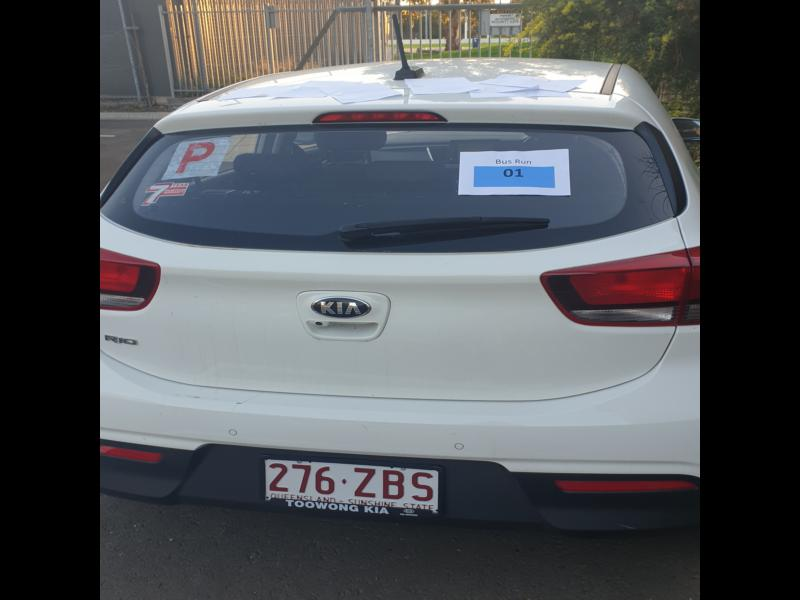BusRun: (474, 163, 555, 190)
PlateNo: (262, 457, 441, 512)
